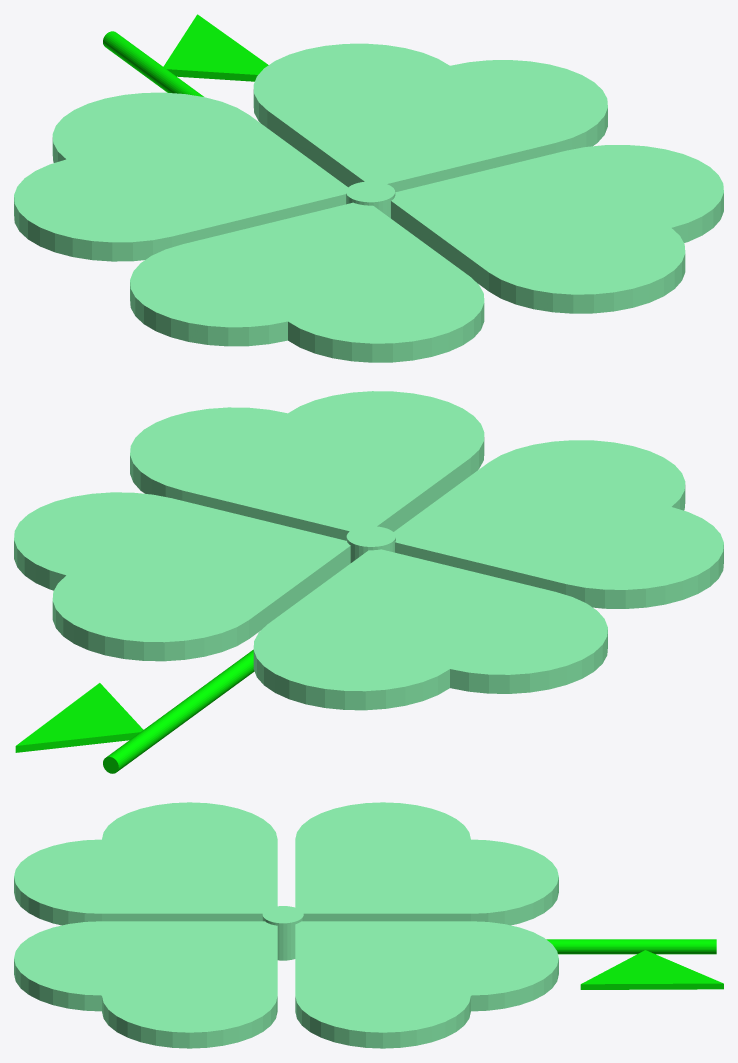
The model's file is 幸運の実.fbx.
3 renders of one model, top to bottom at view 1: azimuth 30°, elevation 25°; view 2: azimuth 150°, elevation 25°; view 3: azimuth 270°, elevation 25°, orthographic. The views are drawn at different scales.
Parts seen in each view (by area): view 1: 円柱; view 2: 円柱; view 3: 円柱.
Boxes of the visible parts, x1,y1,x2,y2 form: 円柱: (14,14,723,362); 円柱: (14,391,723,773); 円柱: (14,802,723,1048).
Size of the model in its own units: 620 by 48.93 by 808.
